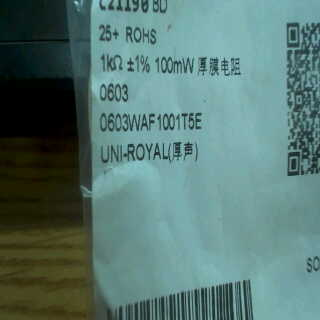1kR: (100, 50, 125, 78)
